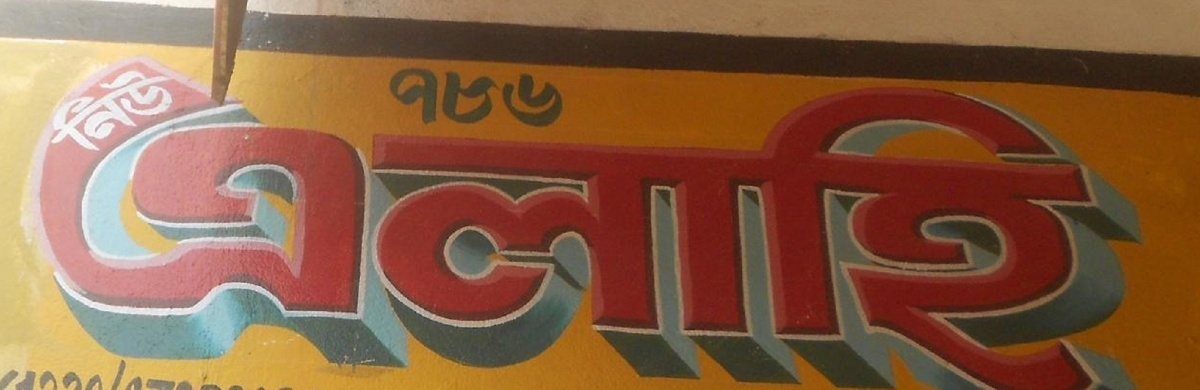text: (33, 68, 48, 389), (49, 68, 64, 389), (65, 68, 80, 389), (81, 68, 96, 389), (97, 68, 112, 389), (113, 68, 128, 389), (129, 68, 144, 389), (145, 68, 160, 389), (161, 68, 176, 389), (177, 68, 192, 389), (193, 68, 208, 389), (209, 68, 224, 389), (225, 68, 240, 389), (241, 68, 256, 389), (257, 68, 272, 389), (273, 68, 288, 389), (289, 68, 304, 389), (305, 68, 320, 389), (321, 68, 336, 389), (337, 68, 352, 389), (353, 68, 368, 389), (369, 68, 384, 389), (385, 68, 400, 389), (401, 68, 416, 389), (417, 68, 432, 389), (433, 68, 448, 389), (449, 68, 464, 389), (465, 68, 480, 389), (481, 68, 496, 389), (497, 68, 512, 389), (513, 68, 528, 389), (529, 68, 544, 389), (545, 68, 560, 389), (561, 68, 576, 389), (577, 68, 592, 389), (593, 68, 608, 389), (609, 68, 624, 389), (625, 68, 640, 389), (641, 68, 656, 389), (657, 68, 672, 389), (673, 68, 688, 389), (689, 68, 704, 389), (705, 68, 720, 389), (721, 68, 736, 389), (737, 68, 752, 389), (753, 68, 768, 389), (769, 68, 784, 389), (785, 68, 800, 389), (801, 68, 816, 389), (817, 68, 832, 389), (833, 68, 848, 389), (849, 68, 864, 389), (865, 68, 880, 389), (881, 68, 896, 389), (897, 68, 912, 389), (913, 68, 928, 389), (929, 68, 944, 389), (945, 68, 960, 389), (961, 68, 976, 389), (977, 68, 992, 389), (993, 68, 1008, 389), (1009, 68, 1024, 389), (1025, 68, 1040, 389), (1041, 68, 1056, 389), (1057, 68, 1072, 389), (1073, 68, 1088, 389), (1089, 68, 1104, 389), (1105, 68, 1120, 389), (1121, 68, 1136, 389), (49, 51, 64, 171), (65, 51, 80, 171), (81, 51, 96, 171), (97, 51, 112, 171), (113, 51, 128, 171), (129, 51, 144, 171), (145, 51, 160, 171), (161, 51, 176, 171), (1137, 68, 1141, 389), (177, 51, 186, 171), (40, 51, 48, 171), (401, 66, 416, 128), (417, 66, 432, 128), (433, 66, 448, 128), (449, 66, 464, 128), (465, 66, 480, 128), (481, 66, 496, 128), (497, 66, 512, 128), (513, 66, 528, 128), (529, 66, 544, 128), (545, 66, 560, 128), (391, 66, 400, 128), (17, 373, 32, 390), (33, 373, 48, 390), (49, 373, 64, 390), (65, 373, 80, 390), (81, 373, 96, 390), (97, 373, 112, 390), (113, 373, 128, 390), (129, 373, 144, 390), (145, 373, 160, 390), (161, 373, 176, 390), (177, 373, 192, 390), (193, 373, 208, 390), (209, 373, 224, 390), (225, 373, 240, 390), (241, 373, 256, 390), (257, 373, 272, 390), (273, 373, 288, 390), (2, 373, 16, 390), (561, 66, 564, 128), (289, 373, 296, 390)
